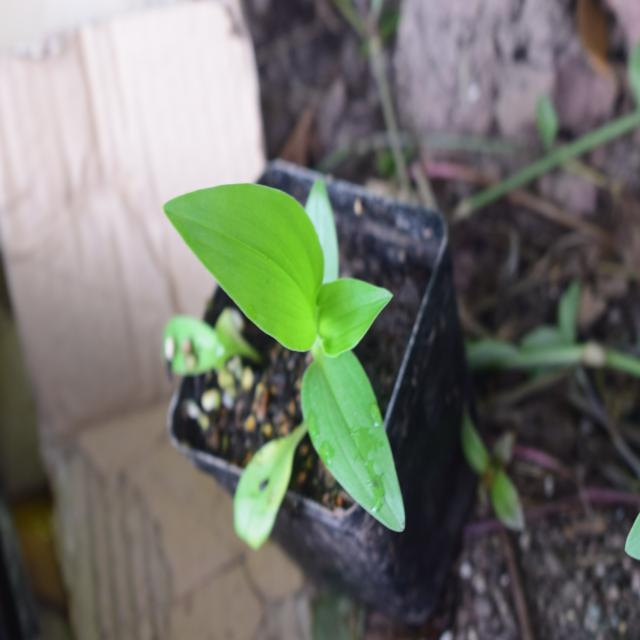Common Dayflower: (166, 142, 410, 532)
